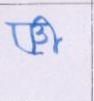i_matra: (36, 15, 63, 53)
